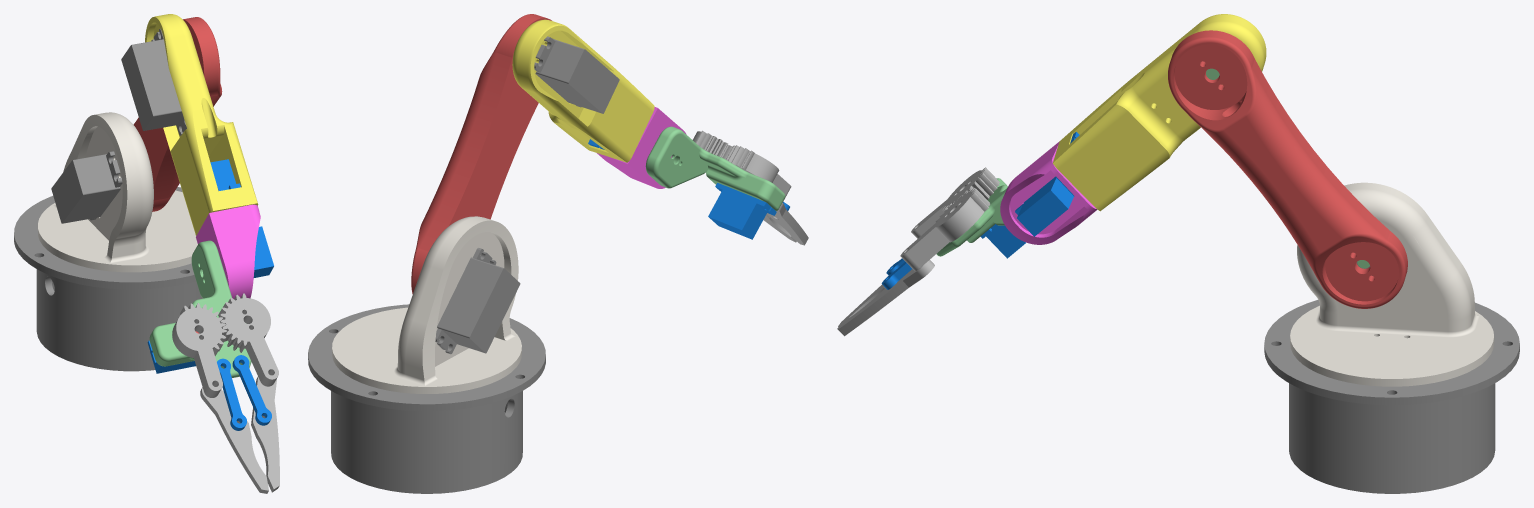
The model's file is robotic_v4.glb.
The picture shows the model from 3 angles, left to right: view 1: azimuth 30°, elevation 25°; view 2: azimuth 150°, elevation 25°; view 3: azimuth 270°, elevation 25°; orthographic projection. The views are drawn at different scales.
Visible parts, largest first — view 1: base, waist, link2, servo_elbow, link3, servo_shoulder, wrist, link1, gear_r, gear_l, gripper_r, gripper_l (+5 smaller); view 2: base, waist, link1, link2, servo_shoulder, wrist, servo_elbow, servo_gripper, link3, gear_r, gripper_r, gear_l; view 3: base, link1, waist, link2, link3, gear_l, servo_wrist, gripper_l, gear_r, wrist, servo_gripper.
Boxes of the visible parts, bbox=[...] form: base: bbox=[14, 187, 202, 371]; waist: bbox=[37, 112, 197, 272]; link2: bbox=[145, 14, 258, 235]; servo_elbow: bbox=[121, 28, 186, 135]; link3: bbox=[196, 204, 260, 298]; servo_shoulder: bbox=[51, 151, 122, 223]; wrist: bbox=[149, 240, 251, 377]; link1: bbox=[133, 17, 222, 211]; gear_r: bbox=[172, 303, 226, 397]; gear_l: bbox=[218, 293, 278, 386]; gripper_r: bbox=[200, 387, 268, 493]; gripper_l: bbox=[251, 377, 279, 492]; base: bbox=[308, 304, 545, 493]; waist: bbox=[332, 216, 521, 393]; link1: bbox=[411, 14, 551, 294]; link2: bbox=[512, 19, 654, 162]; servo_shoulder: bbox=[435, 248, 520, 354]; wrist: bbox=[645, 126, 785, 210]; servo_elbow: bbox=[534, 36, 619, 113]; servo_gripper: bbox=[708, 183, 776, 239]; link3: bbox=[597, 107, 686, 188]; gear_r: bbox=[726, 145, 791, 202]; gripper_r: bbox=[767, 203, 808, 245]; gear_l: bbox=[693, 130, 732, 159]; base: bbox=[1264, 300, 1519, 493]; link1: bbox=[1168, 30, 1407, 308]; waist: bbox=[1290, 182, 1494, 386]; link2: bbox=[1053, 14, 1266, 211]; link3: bbox=[1000, 141, 1097, 244]; gear_l: bbox=[900, 188, 990, 271]; servo_wrist: bbox=[1015, 176, 1074, 236]; gripper_l: bbox=[837, 260, 934, 336]; gear_r: bbox=[911, 167, 999, 238]; wrist: bbox=[936, 178, 1007, 256]; servo_gripper: bbox=[980, 224, 1025, 258].
Bounding box in the file's own units: 158 × 215 × 325.
